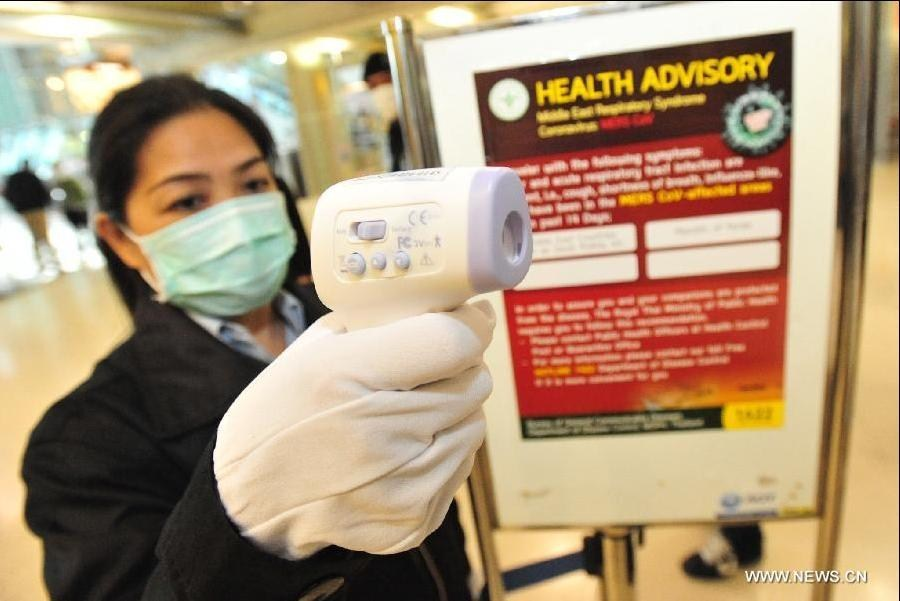mask: (143, 195, 300, 317)
